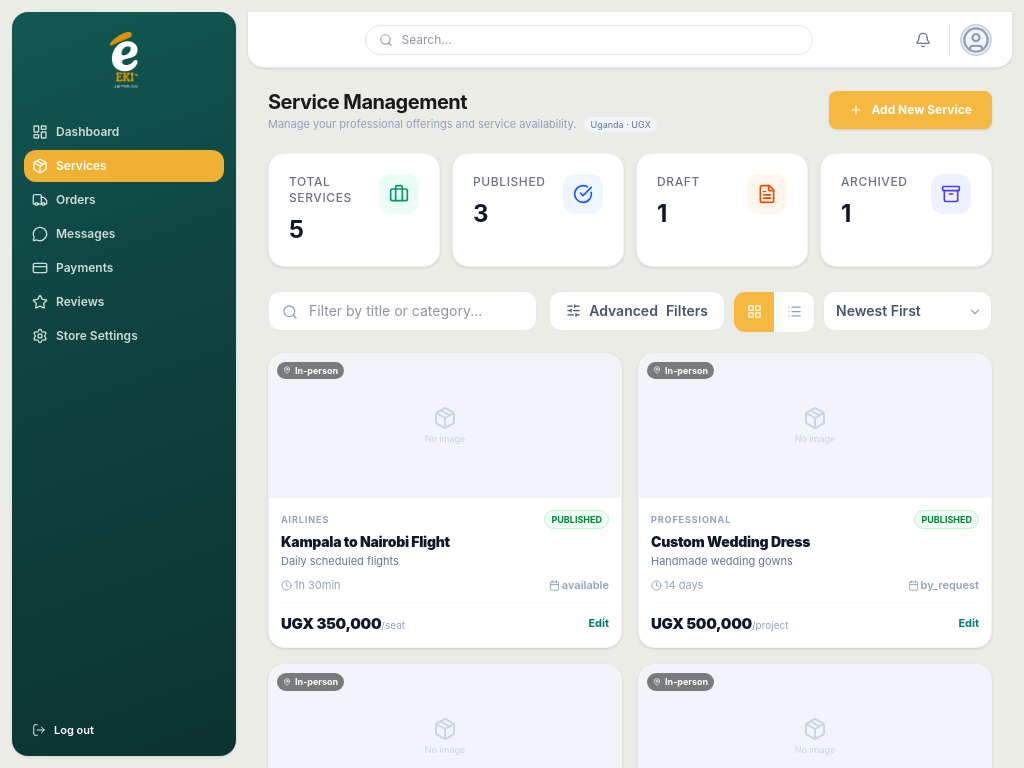
Test: ServiceManagement Page › Search › clearing search restores full list
The width and height of the screenshot is (1024, 768).
Step 1. Type "Airport" into the field with placeholder "Filter by title or category..." → (403, 310), box [268, 290, 537, 330]
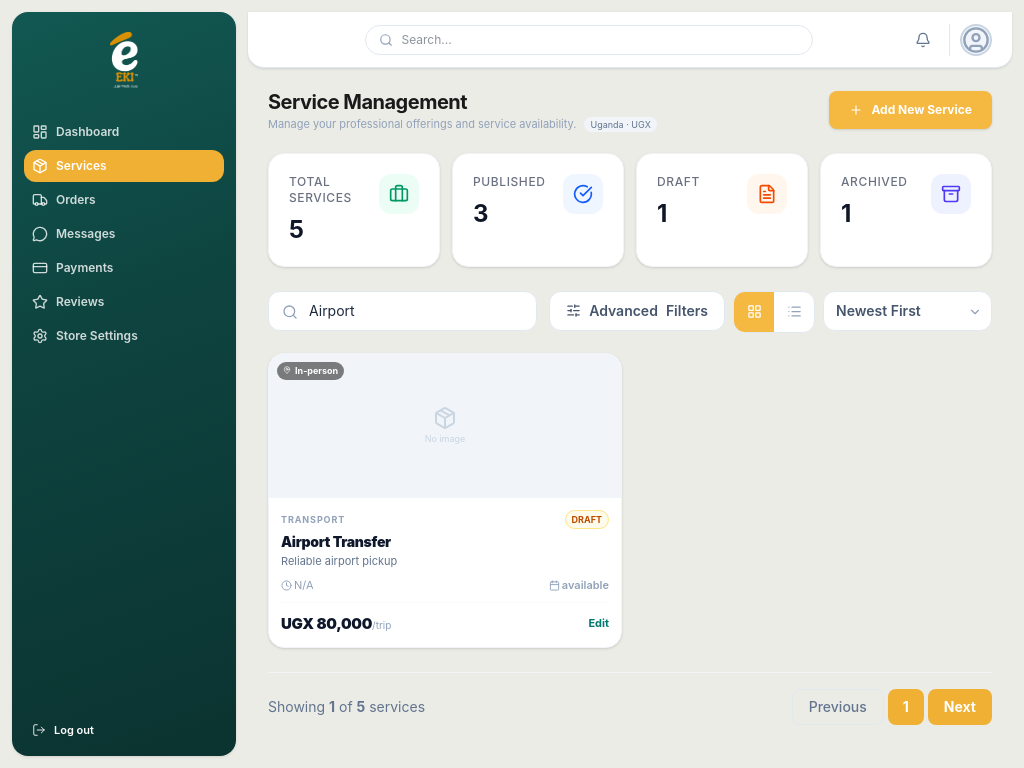
Step 2. Clear the field with placeholder "Filter by title or category..." → (403, 310), box [268, 290, 537, 330]
(page scrolled)
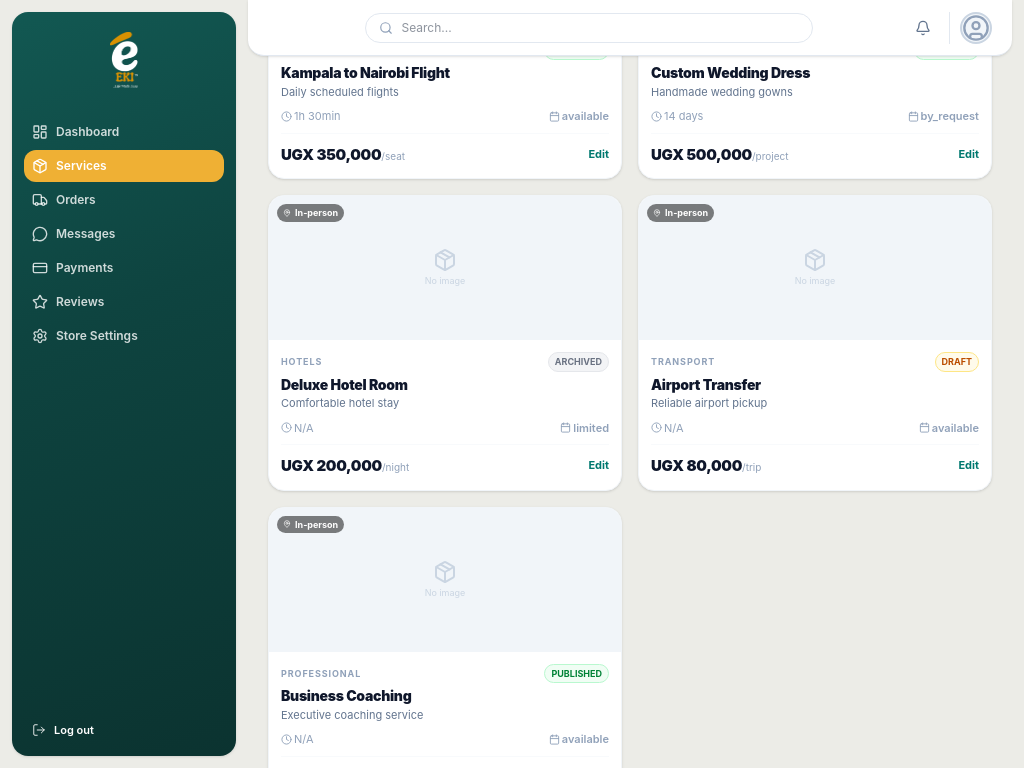
Expected: the heading "Airport Transfer" is shown, [651, 376, 761, 392]
Result: the heading "Business Coaching" is shown at [281, 687, 411, 704]
